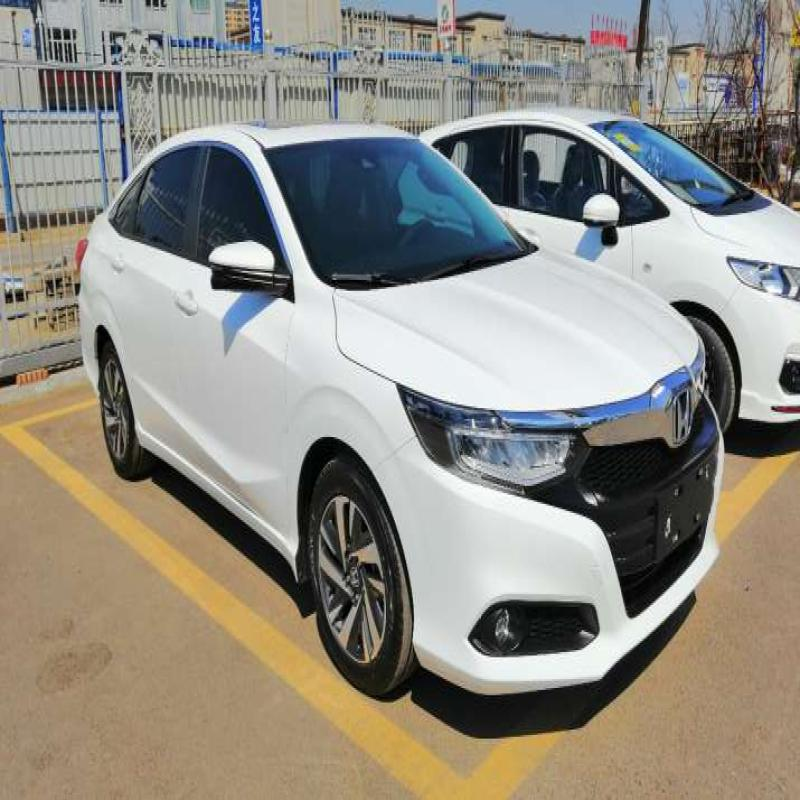car: (65, 121, 700, 706)
